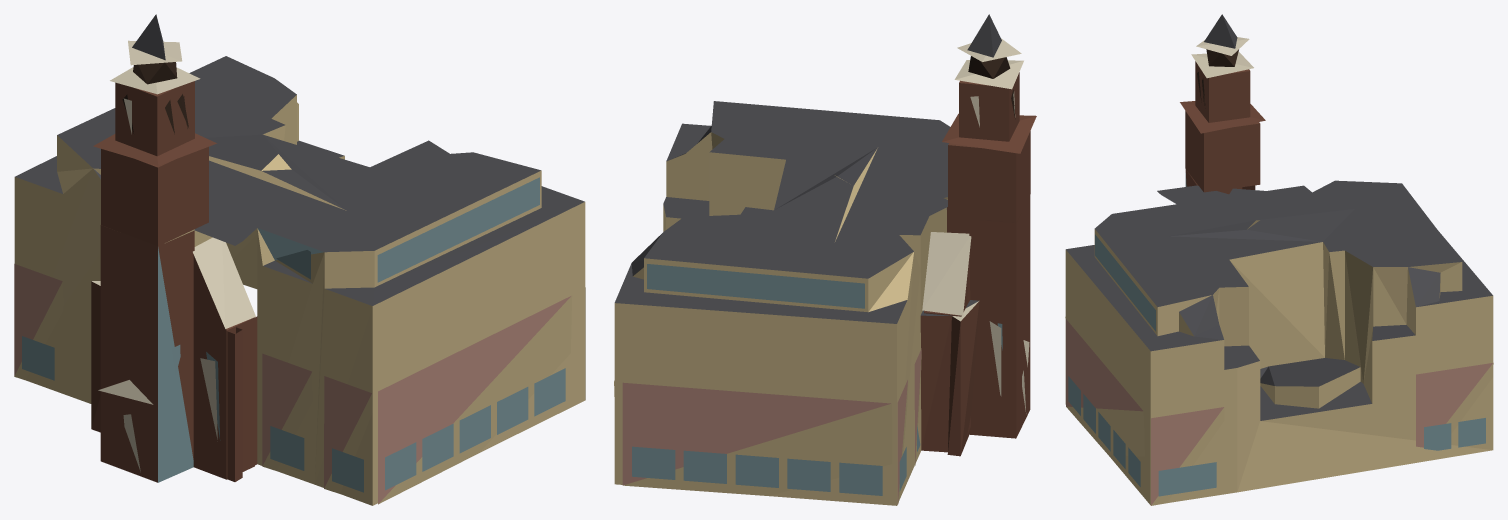
Rendered from muiderkerk.lod2.glb.
3 renders of one model, left to right at view 1: azimuth 30°, elevation 25°; view 2: azimuth 150°, elevation 25°; view 3: azimuth 270°, elevation 25°, orthographic. The views are drawn at different scales.
Visible parts, largest first — view 1: lod2; view 2: lod2; view 3: lod2.
Part boxes in pixels (<box>): lod2: <box>14,14,585,505</box>; lod2: <box>614,14,1036,505</box>; lod2: <box>1065,14,1493,505</box>.
Size of the model in its own units: 42.66 by 41.9 by 46.9.
